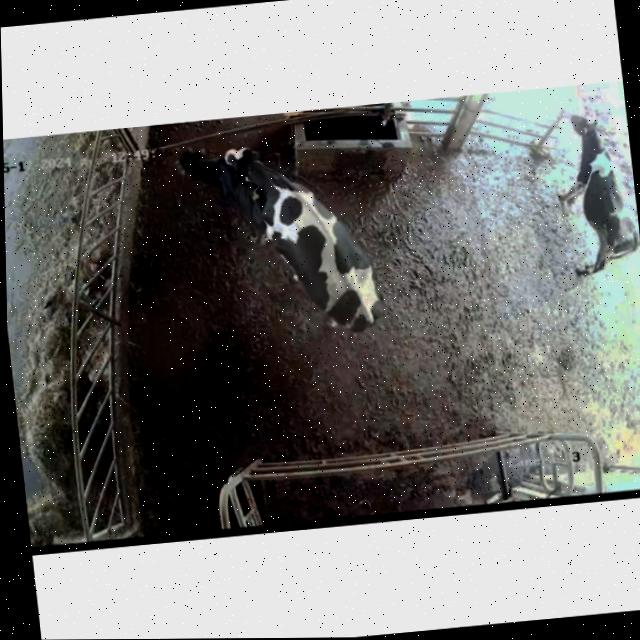ride: (224, 131, 386, 356)
stand: (539, 97, 640, 288), (172, 140, 265, 249)
